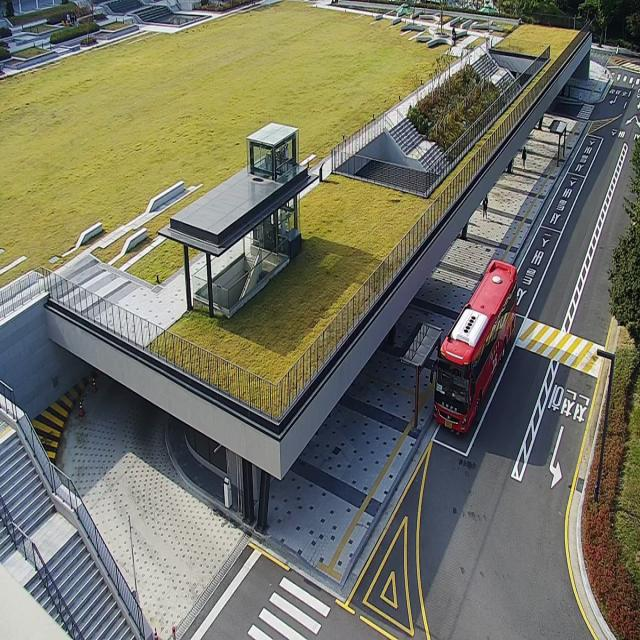queue: (416, 330, 439, 432)
